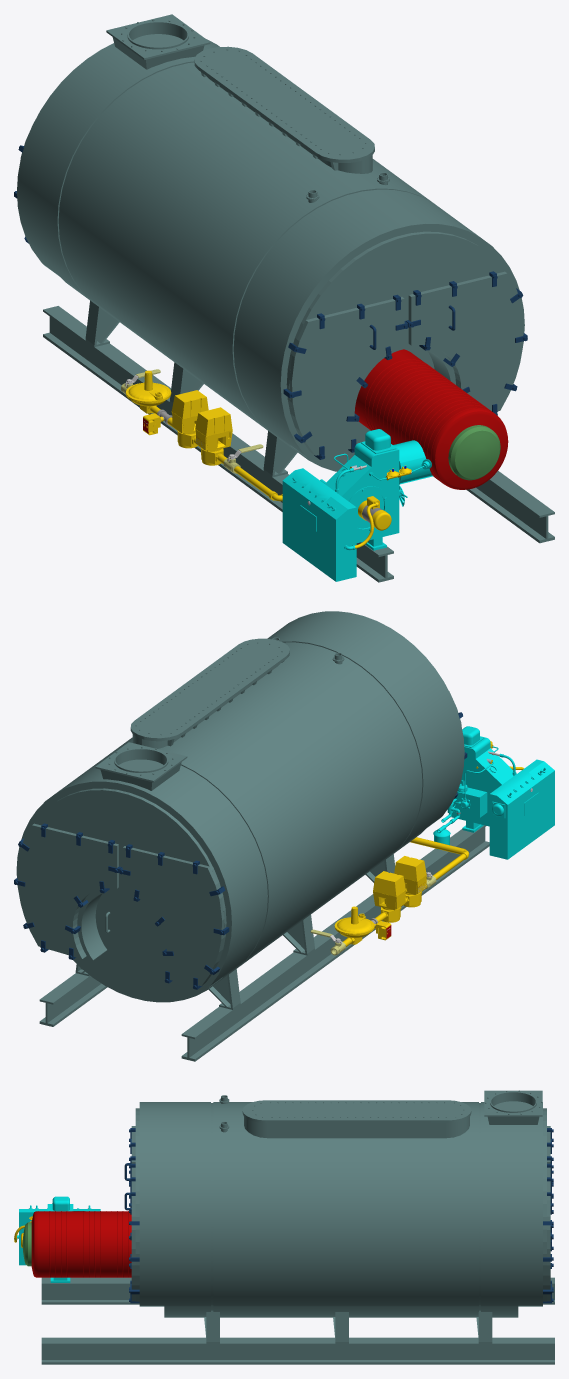
Rendered from noi-hoi.glb.
The picture shows the model from 3 angles, top to bottom: view 1: azimuth 30°, elevation 25°; view 2: azimuth 150°, elevation 25°; view 3: azimuth 270°, elevation 25°; orthographic projection. The views are drawn at different scales.
Parts seen in each view (by area): view 1: polySurface205Shape_127, polySurfaceShape46_84, polySurfaceShape205_122, pCylinderShape1_151, polySurfaceShape206_124, pCubeShape7_184, pCubeShape4_141, pCubeShape6_154, pCubeShape5_143, pCube10Shape_147, pCylinderShape1_152, pCylinder16Shape_131 (+5 smaller); view 2: polySurface205Shape_127, polySurfaceShape46_84, polySurfaceShape208_135, polySurfaceShape207_133, pCubeShape4_141, pCubeShape7_184, pCubeShape6_154, pCube10Shape_147, pCubeShape5_143, pCylinder17Shape_137, pCylinder18Shape_139, polySurfaceShape168_65 (+3 smaller); view 3: polySurface205Shape_127, pCubeShape5_143, pCylinderShape1_151, pCubeShape7_184, pCubeShape20_304, pCubeShape4_141, pCubeShape6_154, pCube9Shape_145, polySurfaceShape46_84, polySurfaceShape206_124, polySurfaceShape207_133, pCylinder18Shape_139 (+2 smaller).
Part boxes in pixels (box(x1,y1,x2,y2)): polySurface205Shape_127: box(17, 39, 524, 471); polySurfaceShape46_84: box(282, 429, 433, 581); polySurfaceShape205_122: box(289, 297, 404, 455); pCylinderShape1_151: box(354, 349, 508, 489); polySurfaceShape206_124: box(408, 271, 523, 411); pCubeShape7_184: box(194, 46, 374, 162); pCubeShape4_141: box(43, 306, 393, 582); pCubeShape6_154: box(106, 14, 210, 69); pCubeShape5_143: box(466, 471, 554, 543); pCube10Shape_147: box(85, 300, 297, 477); pCylinderShape1_152: box(448, 425, 500, 480); pCylinder16Shape_131: box(283, 294, 408, 459); polySurface205Shape_127: box(16, 611, 464, 1002); polySurfaceShape46_84: box(433, 726, 554, 859); polySurfaceShape208_135: box(122, 846, 224, 985); polySurfaceShape207_133: box(17, 823, 118, 958); pCubeShape4_141: box(181, 825, 489, 1061); pCubeShape7_184: box(130, 638, 289, 741); pCubeShape6_154: box(95, 742, 187, 790); pCube10Shape_147: box(208, 854, 395, 1009); pCubeShape5_143: box(39, 973, 107, 1026); pCylinder17Shape_137: box(119, 844, 229, 989); pCylinder18Shape_139: box(14, 823, 121, 959); polySurfaceShape168_65: box(373, 871, 405, 909); polySurface205Shape_127: box(135, 1102, 546, 1317); pCubeShape5_143: box(41, 1337, 554, 1364); pCylinderShape1_151: box(31, 1211, 131, 1277); pCubeShape7_184: box(242, 1100, 471, 1122); pCubeShape20_304: box(244, 1116, 469, 1138); pCubeShape4_141: box(41, 1277, 554, 1304); pCubeShape6_154: box(484, 1090, 542, 1124); pCube9Shape_145: box(204, 1310, 492, 1343); polySurfaceShape46_84: box(14, 1196, 100, 1282); polySurfaceShape206_124: box(131, 1167, 135, 1301); polySurfaceShape207_133: box(547, 1167, 550, 1301); pCylinder18Shape_139: box(543, 1163, 553, 1303).
Bounding box in the file's own units: 86.63 × 92.99 × 197.
Materials: 17 (2 with a texture image).
